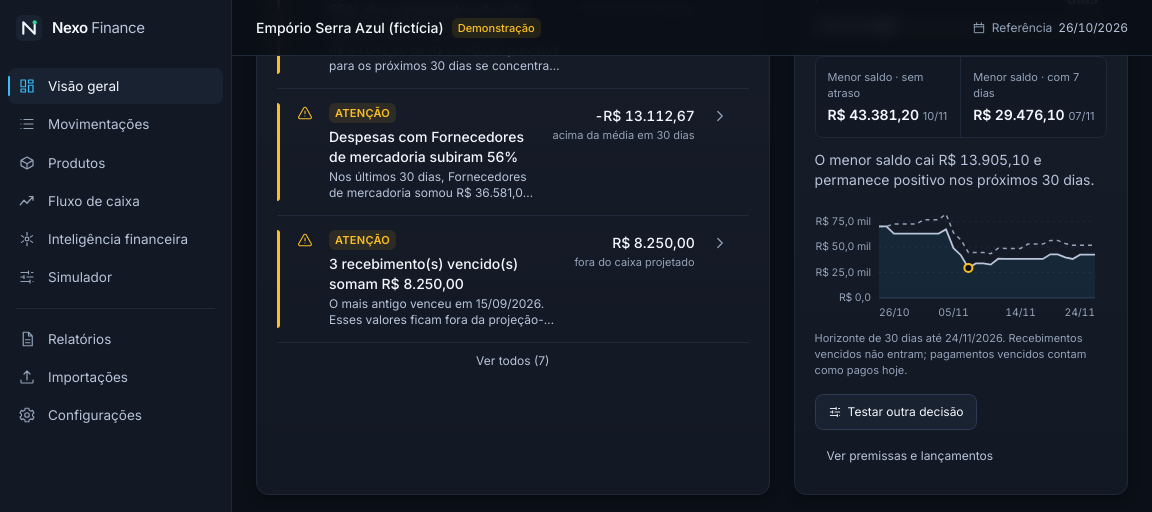
Scenario: segundo passe visual › visão geral: mostra 3 alertas e expande a lista na própria página
This screenshot has width=1152, height=512.
(page scrolled)
Click the button "Ver todos (7)". click: click(513, 360)
box: [277,342,749,378]
(page scrolled)
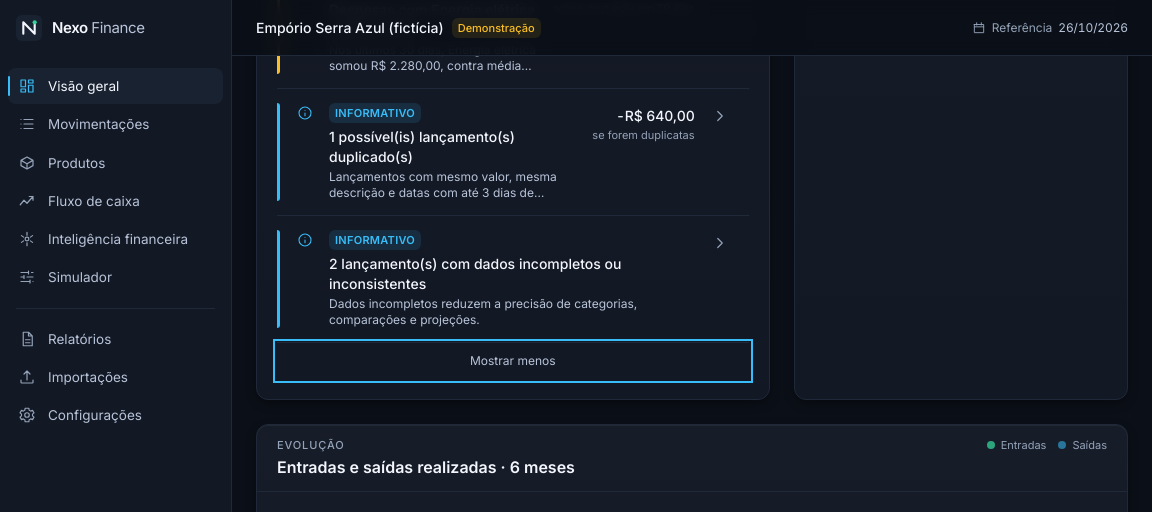
Result: the button "Mostrar menos" is shown at [277,342,749,378]
